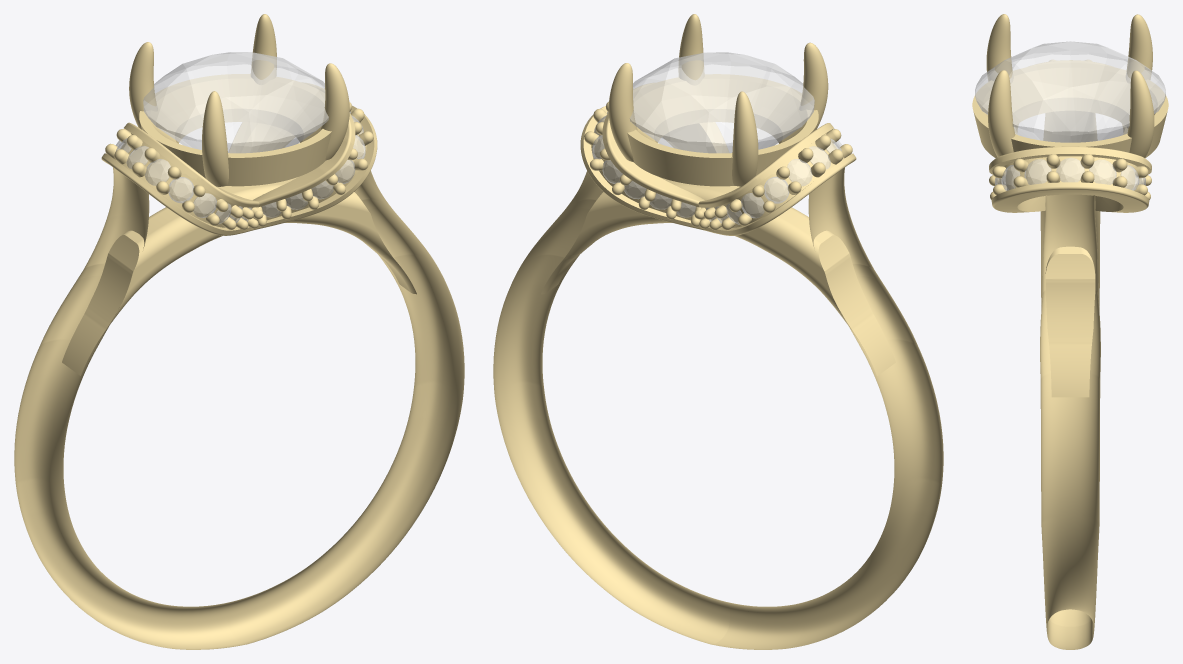
3 views of the same model, side by side, from view 1: azimuth 30°, elevation 25°; view 2: azimuth 150°, elevation 25°; view 3: azimuth 270°, elevation 25° (orthographic).
Visible parts, largest first — view 1: NNObj_28, NNObj_26, Bezel, NNObj_27, NNObj_29, NNObj_30, NNObj_33, NNObj_31, NNObj_32; view 2: NNObj_28, NNObj_26, Bezel, NNObj_27, NNObj_29, NNObj_31, NNObj_32, NNObj_30, NNObj_33; view 3: NNObj_28, NNObj_26, Bezel, NNObj_27, NNObj_29, NNObj_32, NNObj_33, NNObj_30, NNObj_31, NNObj_19, NNObj_20, NNObj_18 (+2 smaller).
Part boxes in pixels (bbox=[...]): NNObj_28: bbox=[14, 167, 464, 649]; NNObj_26: bbox=[143, 52, 328, 153]; Bezel: bbox=[139, 74, 331, 186]; NNObj_27: bbox=[101, 82, 377, 235]; NNObj_29: bbox=[62, 177, 416, 375]; NNObj_30: bbox=[202, 91, 228, 186]; NNObj_33: bbox=[321, 63, 349, 160]; NNObj_31: bbox=[129, 42, 157, 129]; NNObj_32: bbox=[251, 14, 276, 84]; NNObj_28: bbox=[493, 167, 943, 649]; NNObj_26: bbox=[630, 52, 814, 153]; Bezel: bbox=[627, 74, 818, 186]; NNObj_27: bbox=[580, 83, 856, 235]; NNObj_29: bbox=[541, 177, 895, 375]; NNObj_31: bbox=[732, 91, 758, 186]; NNObj_32: bbox=[608, 63, 637, 161]; NNObj_30: bbox=[799, 42, 828, 129]; NNObj_33: bbox=[678, 14, 704, 85]; NNObj_28: bbox=[1040, 111, 1100, 649]; NNObj_26: bbox=[975, 41, 1165, 142]; Bezel: bbox=[972, 63, 1168, 158]; NNObj_27: bbox=[989, 60, 1151, 212]; NNObj_29: bbox=[1045, 201, 1095, 397]; NNObj_32: bbox=[1127, 70, 1154, 157]; NNObj_33: bbox=[988, 70, 1015, 156]; NNObj_30: bbox=[986, 14, 1013, 83]; NNObj_31: bbox=[1126, 14, 1152, 83]; NNObj_19: bbox=[1056, 157, 1084, 182]; NNObj_20: bbox=[1024, 159, 1051, 184]; NNObj_18: bbox=[1089, 159, 1116, 184].
Size of the model in its own units: 0.0209 by 0.027 by 0.00821.
